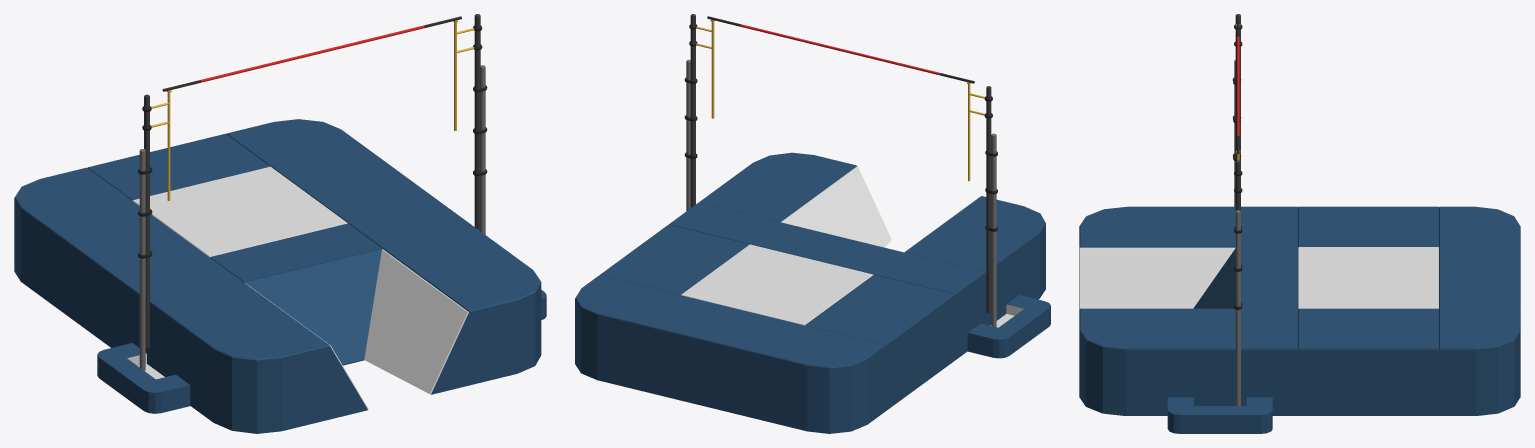
File: Pole Vault.fbx
3 views of the same model, side by side, from view 1: azimuth 30°, elevation 25°; view 2: azimuth 150°, elevation 25°; view 3: azimuth 270°, elevation 25° (orthographic). The views are drawn at different scales.
Visible parts, largest first — view 1: Pole Vault Mat, Pole Vault Pole Extension, Pole Vault Pole Extension.001, Pole Vault Standard Left, Pole Vault Standard Right, Pole Vault Bar; view 2: Pole Vault Mat, Pole Vault Pole Extension.001, Pole Vault Pole Extension, Pole Vault Standard Left, Pole Vault Bar, Pole Vault Standard Right; view 3: Pole Vault Mat, Pole Vault Standard Right, Pole Vault Pole Extension.001.
Boxes of the visible parts, left/top/right/bottom form: Pole Vault Mat: left=14, top=119, right=546, bottom=433; Pole Vault Pole Extension: left=453, top=14, right=482, bottom=230; Pole Vault Pole Extension.001: left=142, top=90, right=171, bottom=348; Pole Vault Standard Left: left=138, top=149, right=152, bottom=370; Pole Vault Standard Right: left=473, top=65, right=487, bottom=234; Pole Vault Bar: left=162, top=16, right=461, bottom=91; Pole Vault Mat: left=575, top=152, right=1050, bottom=433; Pole Vault Pole Extension.001: left=967, top=82, right=992, bottom=312; Pole Vault Pole Extension: left=689, top=14, right=714, bottom=207; Pole Vault Standard Left: left=985, top=133, right=997, bottom=326; Pole Vault Bar: left=707, top=16, right=974, bottom=83; Pole Vault Standard Right: left=684, top=59, right=697, bottom=211; Pole Vault Mat: left=1079, top=206, right=1520, bottom=433; Pole Vault Standard Right: left=1234, top=210, right=1242, bottom=405; Pole Vault Pole Extension.001: left=1234, top=14, right=1242, bottom=161.
Size of the model in its own units: 4004 by 2723 by 4200.
